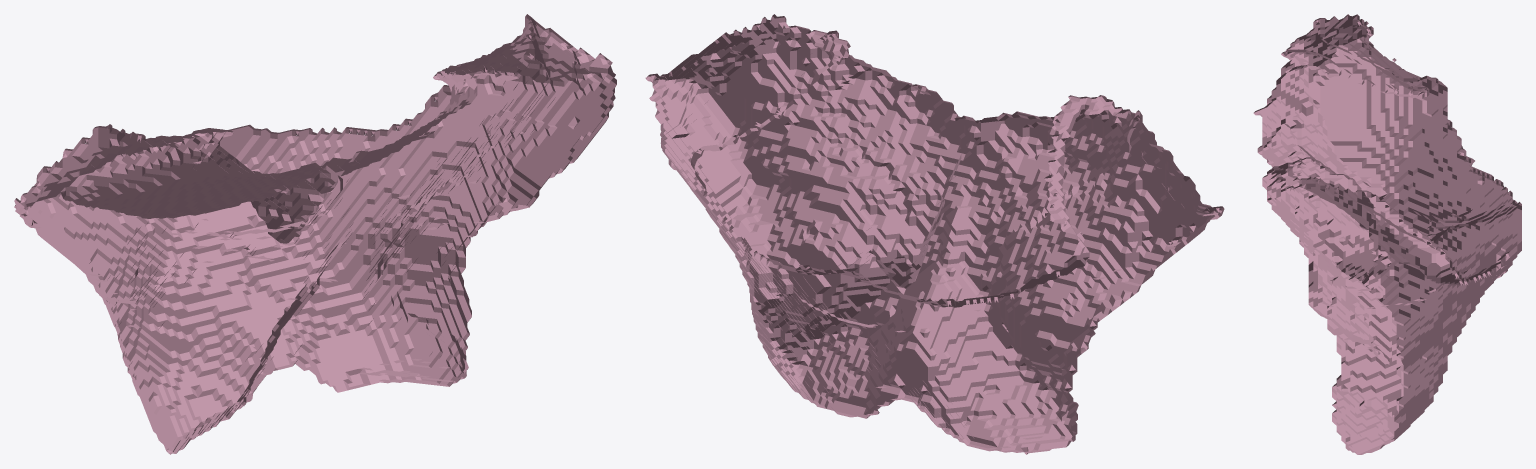
File: region_0014_CC__cerebellar_crest_.glb
The picture shows the model from 3 angles, left to right: view 1: azimuth 30°, elevation 25°; view 2: azimuth 150°, elevation 25°; view 3: azimuth 270°, elevation 25°; orthographic projection. The views are drawn at different scales.
Parts seen in each view (by area): view 1: world; view 2: world; view 3: world.
Boxes of the visible parts, <box> form: world: <box>14,14,616,454</box>; world: <box>645,14,1224,454</box>; world: <box>1253,14,1521,454</box>.
Size of the model in its own units: 1.02 by 0.584 by 0.464.
